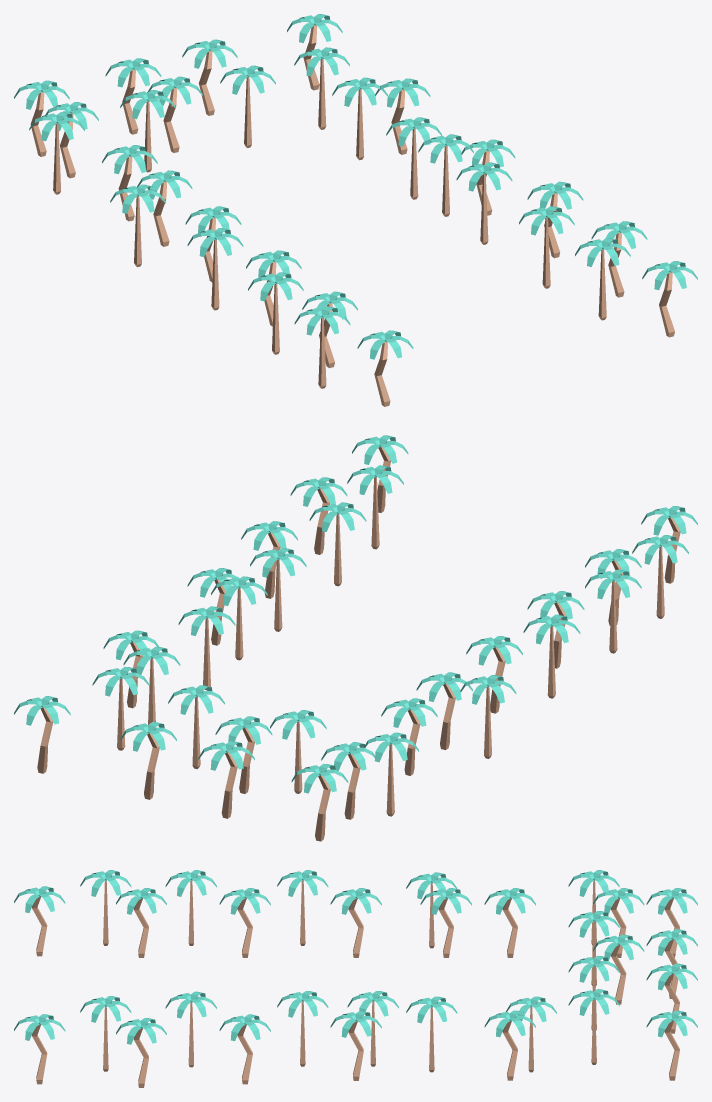
Rendered from Trees.fbx.
3 views of the same model, one above another, from view 1: azimuth 30°, elevation 25°; view 2: azimuth 150°, elevation 25°; view 3: azimuth 270°, elevation 25° (orthographic). The views are drawn at different scales.
Parts seen in each view (by area): view 1: tree_palm14; view 2: tree_palm14; view 3: tree_palm14.
Part boxes in pixels (x1,y1,x2,y2): tree_palm14: (14, 14, 697, 406); tree_palm14: (14, 435, 697, 841); tree_palm14: (14, 870, 697, 1087).
Size of the model in its own units: 77.39 by 16.38 by 135.
